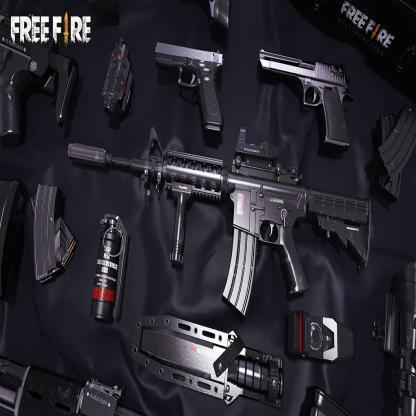Grenade: (90, 208, 131, 323)
Gun: (66, 124, 374, 322), (0, 8, 81, 151), (0, 352, 143, 416)
Knife: (131, 311, 286, 413)
Pistol: (259, 46, 355, 159), (154, 37, 226, 144)
